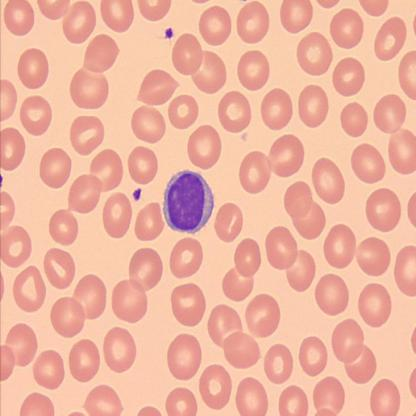Lymphocyte: (162, 169, 214, 234)
